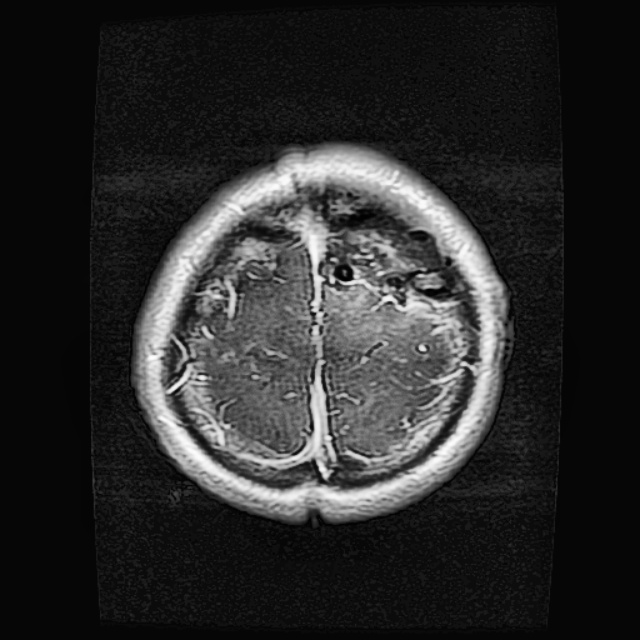Pituitary: (229, 185, 462, 302)
